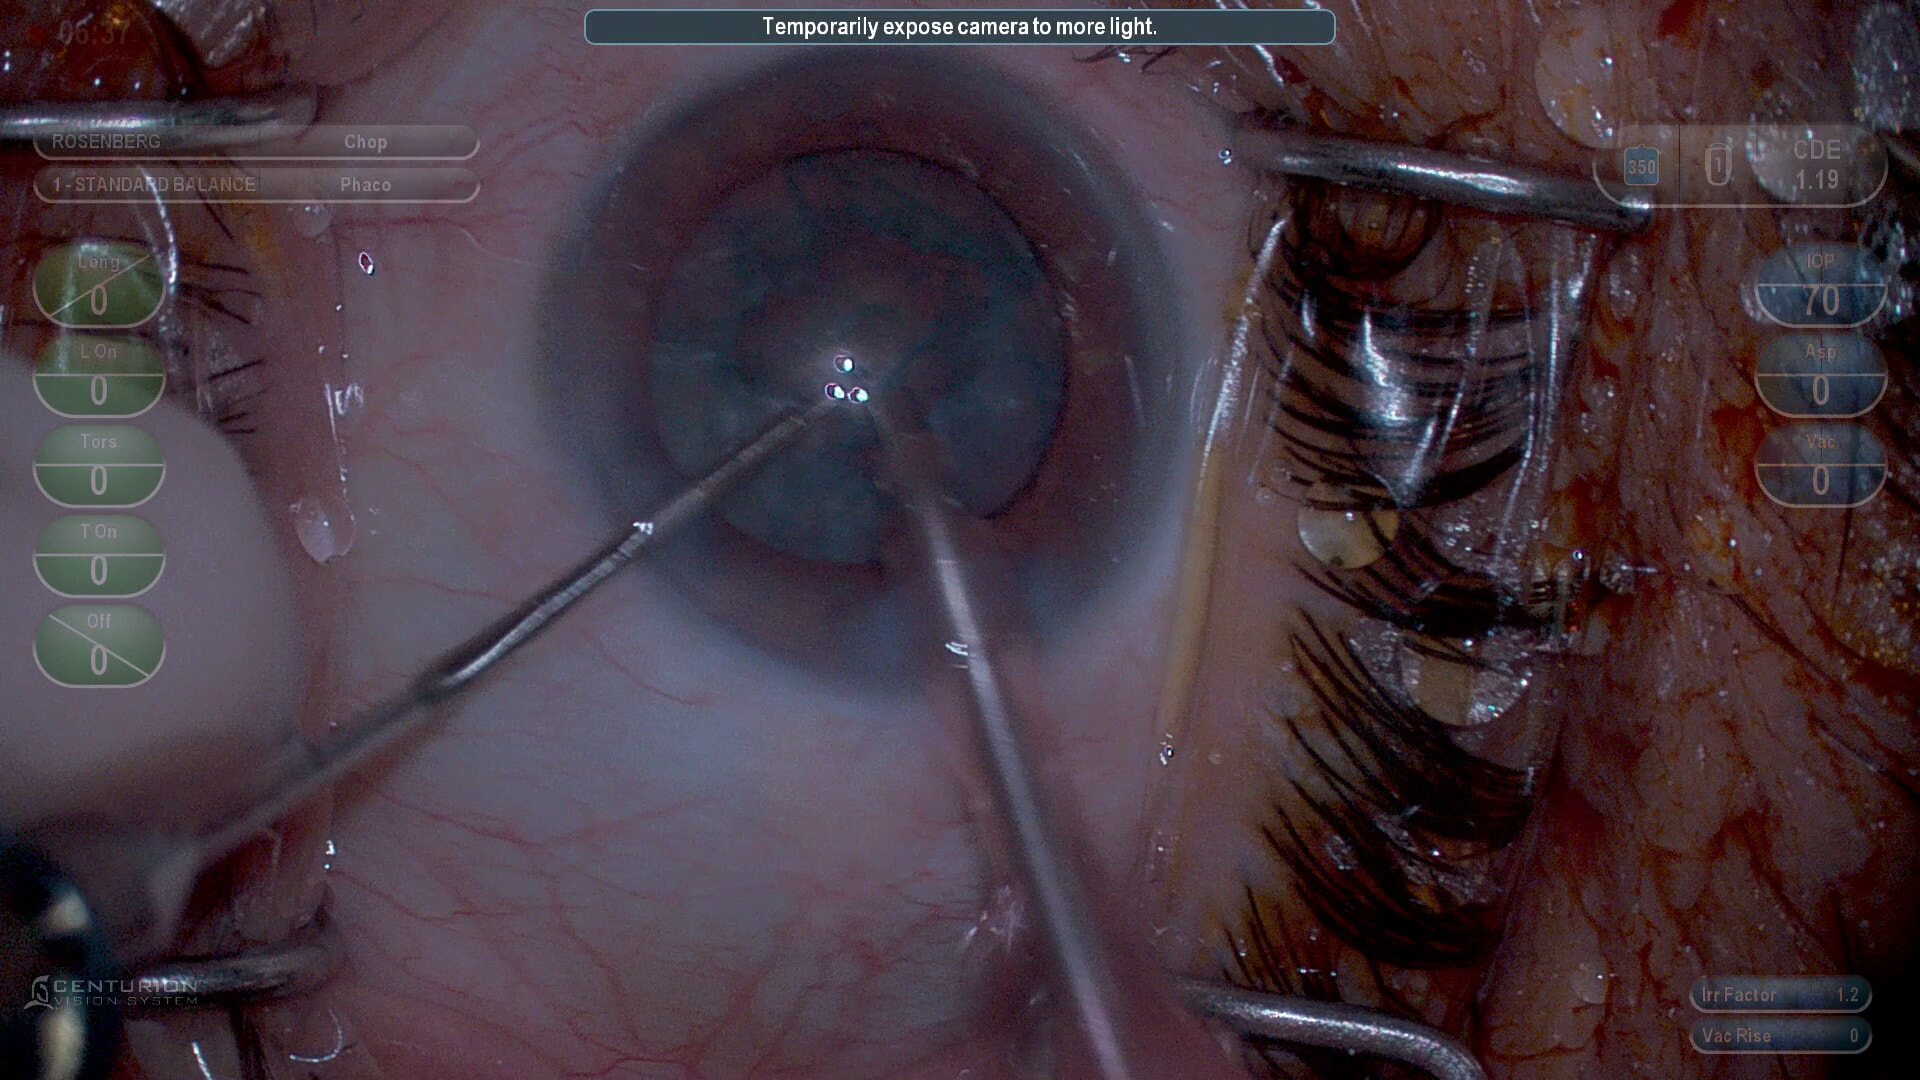iris: (567, 51, 1184, 677)
pupil: (649, 148, 1062, 570)
